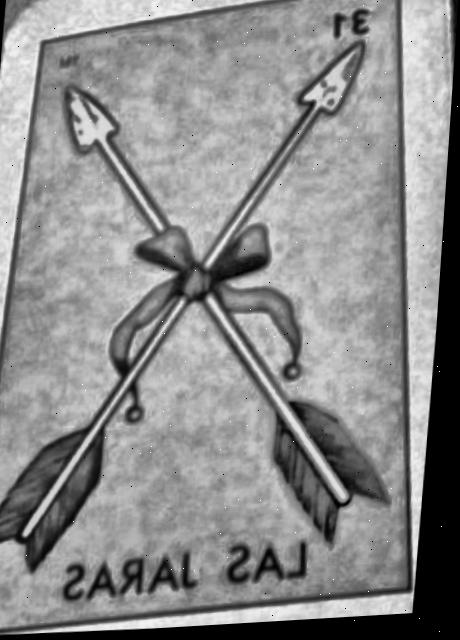Las Jaras: (0, 0, 417, 632)
